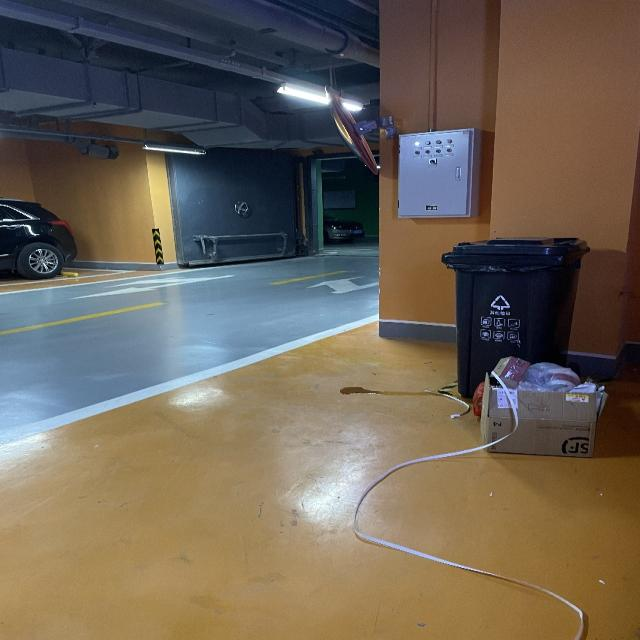garbage: (353, 356, 607, 639)
garbage_bin: (440, 236, 588, 399)
